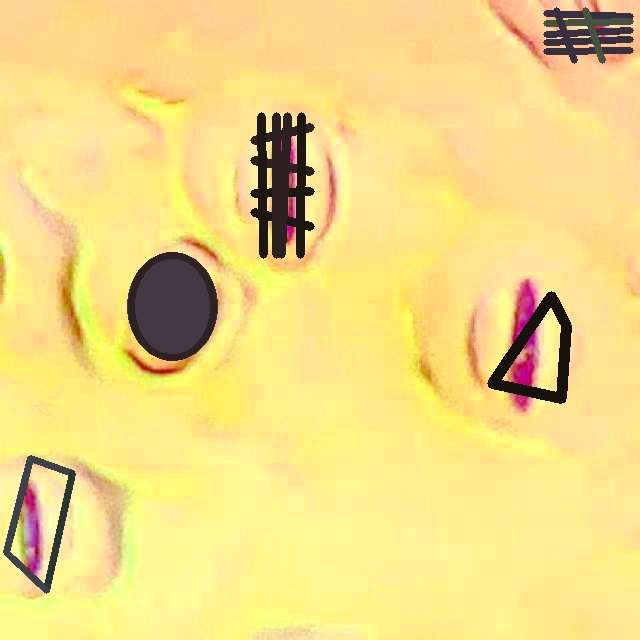open: (127, 251, 218, 360), (3, 456, 74, 593), (487, 292, 570, 403), (251, 113, 313, 258), (544, 8, 632, 62)
